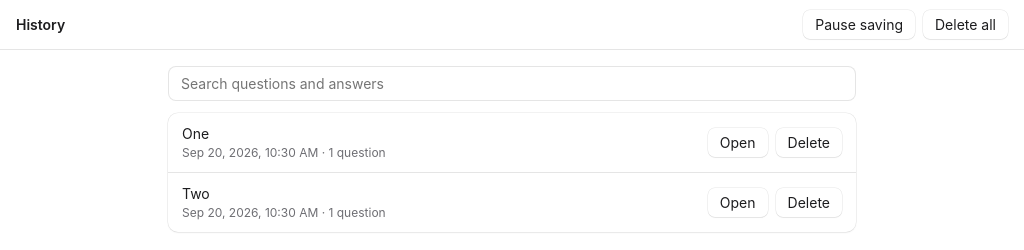
confirming Delete all removes every chat
The width and height of the screenshot is (1024, 250).
Click the button "Delete all". click: (966, 24)
box: 923,10 -> 1008,39
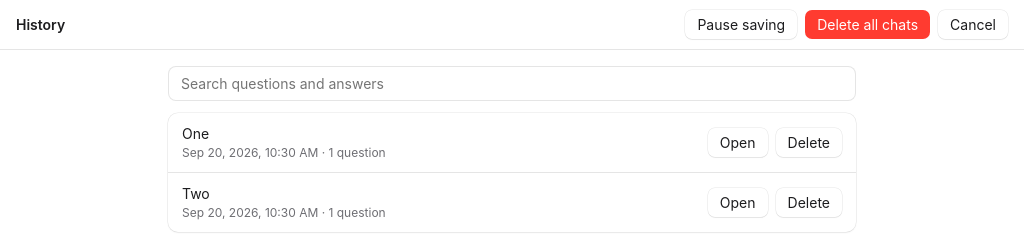
Click the button "Delete all chats". click: (868, 24)
box: 805,10 -> 930,39
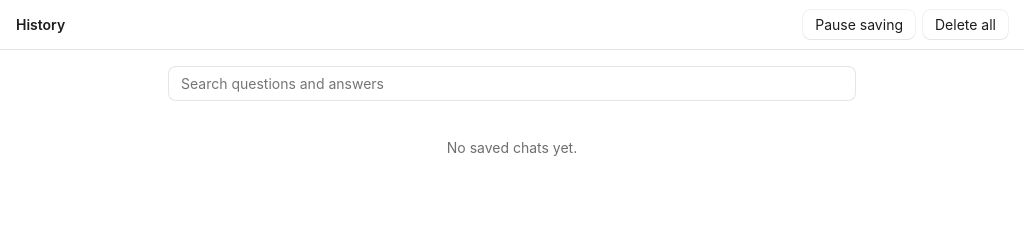
Expected: the text "No saved chats yet." is shown, 447,139 -> 577,156
